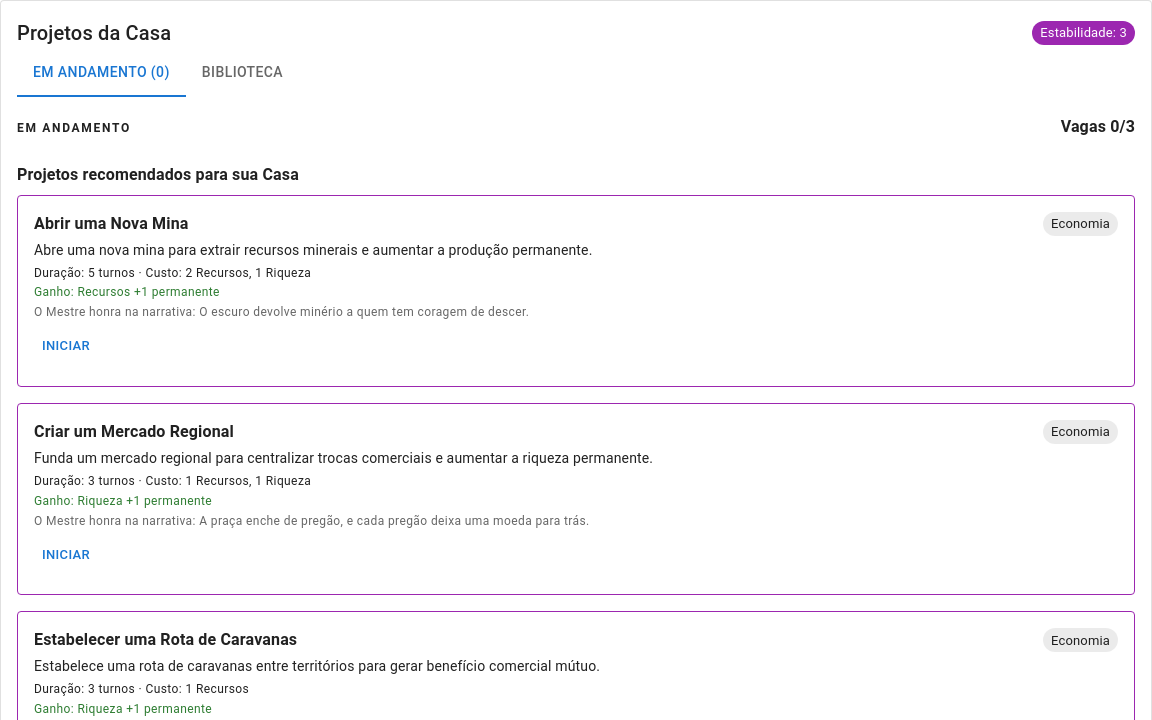
Test: Energia no painel de cartas › mostra o cofre com a Energia do turno
This screenshot has width=1152, height=720.
Click the tab "Biblioteca" at (242, 73), box [186,49,299,97]
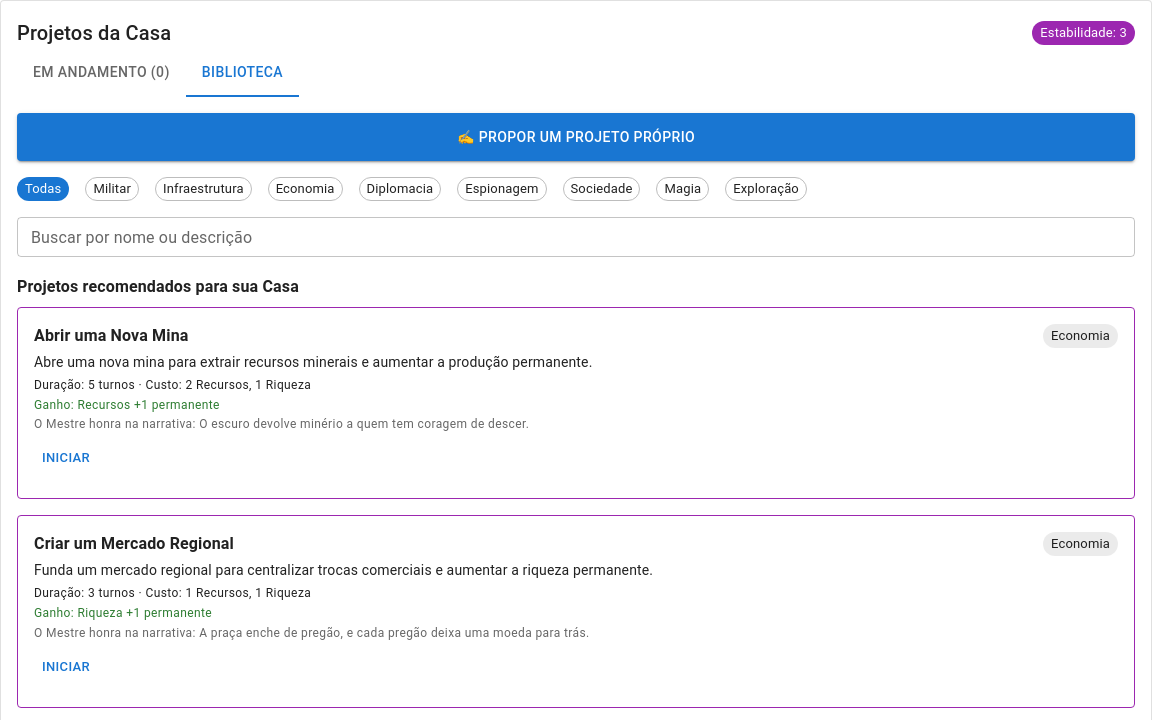
Click the 1st button "Iniciar" at (66, 459), box [34,443,98,474]
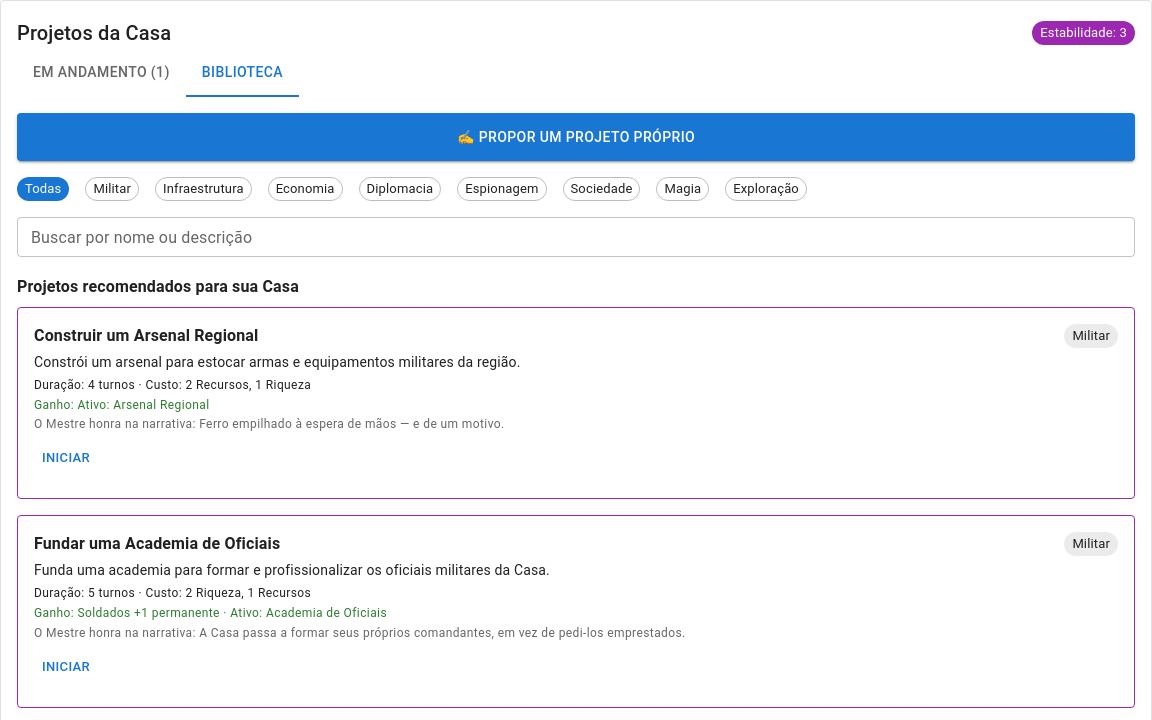
Click the tab "Em andamento (1)" at (101, 73), box [17,49,186,97]
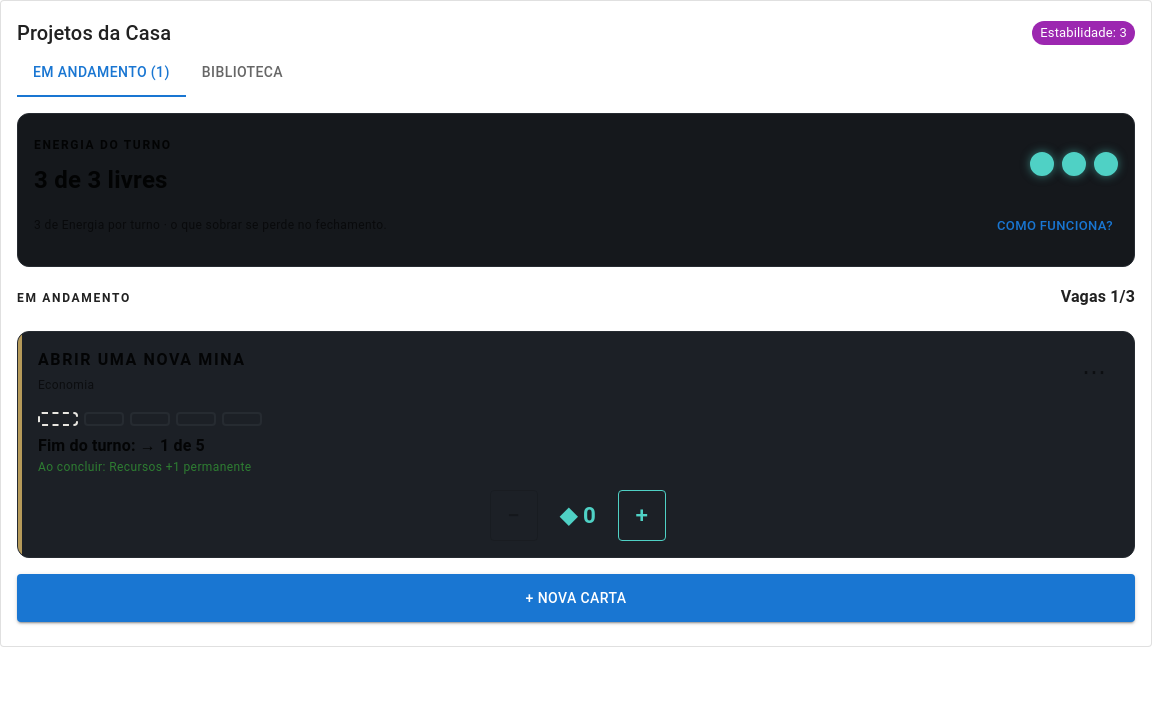
Expected: the text "3 de 3 livres" is shown, [34,162,172,198]
